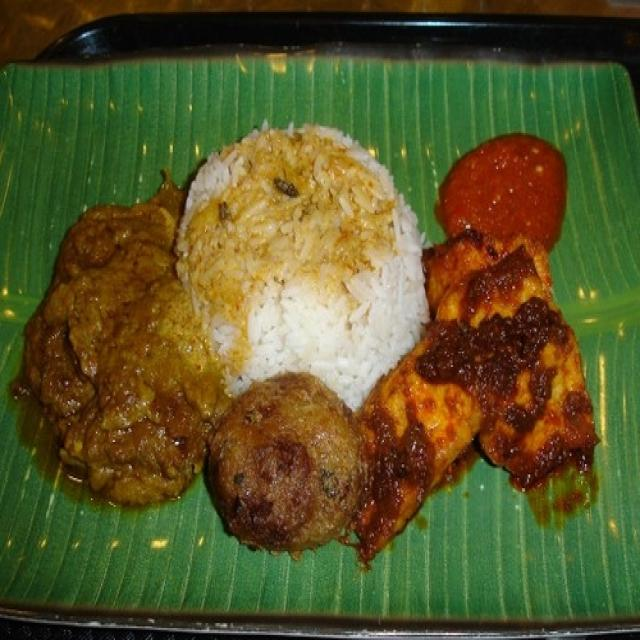米饭主食: (5, 34, 620, 613)
